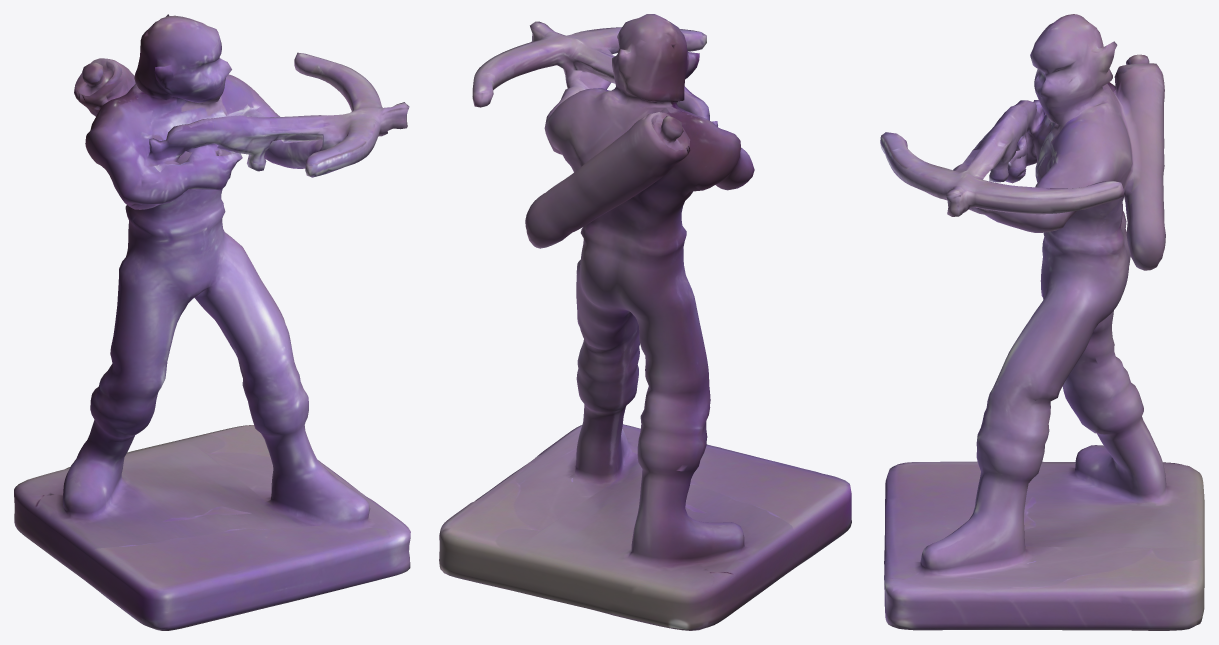
The model's file is rouge.glb.
The picture shows the model from 3 angles, left to right: view 1: azimuth 30°, elevation 25°; view 2: azimuth 150°, elevation 25°; view 3: azimuth 270°, elevation 25°; orthographic projection. The views are drawn at different scales.
Visible parts, largest first — view 1: Mesh_0; view 2: Mesh_0; view 3: Mesh_0.
Boxes of the visible parts, box(x1,y1,x2,y2) form: Mesh_0: box(14, 14, 410, 630); Mesh_0: box(439, 14, 851, 630); Mesh_0: box(880, 14, 1204, 630).
Bounding box in the file's own units: 1.14 × 2 × 1.09.
1 material, 1 textured.
